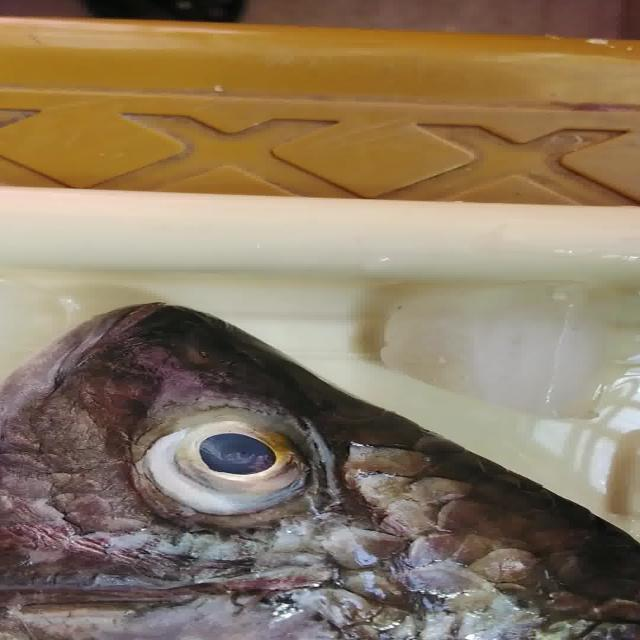Fresh: (115, 378, 381, 526)
